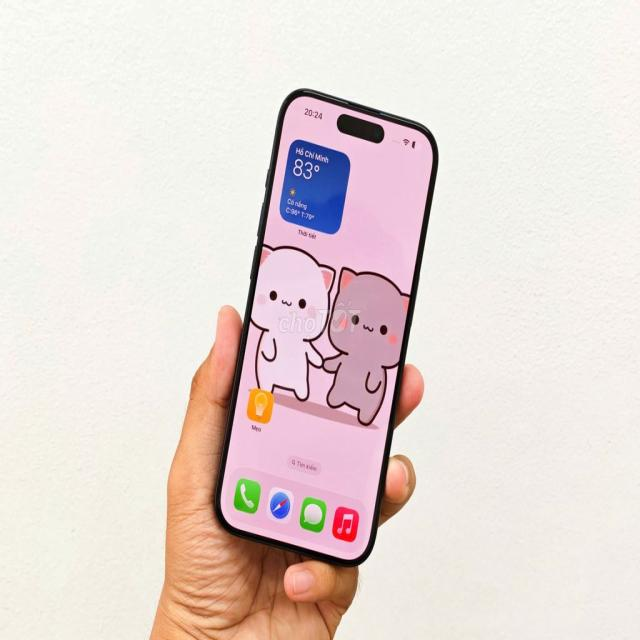gen_15: (212, 71, 446, 592)
